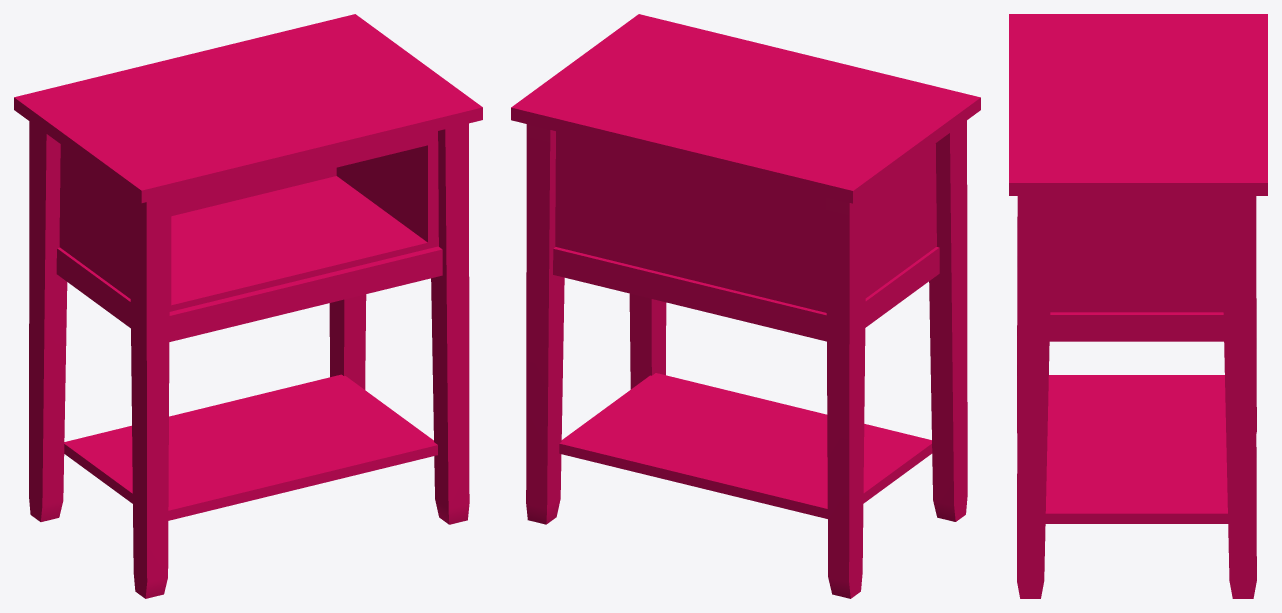
Rendered from Cupboard_09_Lod0.fbx.
3 renders of one model, left to right at view 1: azimuth 30°, elevation 25°; view 2: azimuth 150°, elevation 25°; view 3: azimuth 270°, elevation 25°, orthographic.
Parts seen in each view (by area): view 1: Cupboard_09_Lod0; view 2: Cupboard_09_Lod0; view 3: Cupboard_09_Lod0.
Boxes of the visible parts, x1,y1,x2,y2 form: Cupboard_09_Lod0: (14,14,482,598); Cupboard_09_Lod0: (511,14,980,598); Cupboard_09_Lod0: (1009,14,1267,598).
Bounding box in the file's own units: 76.07 × 88.29 × 49.24.
